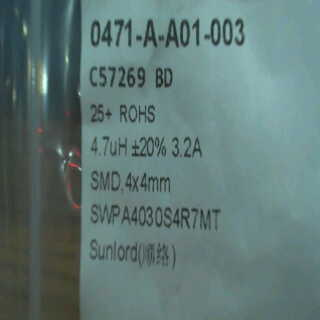4.7uH: (88, 131, 133, 161)
